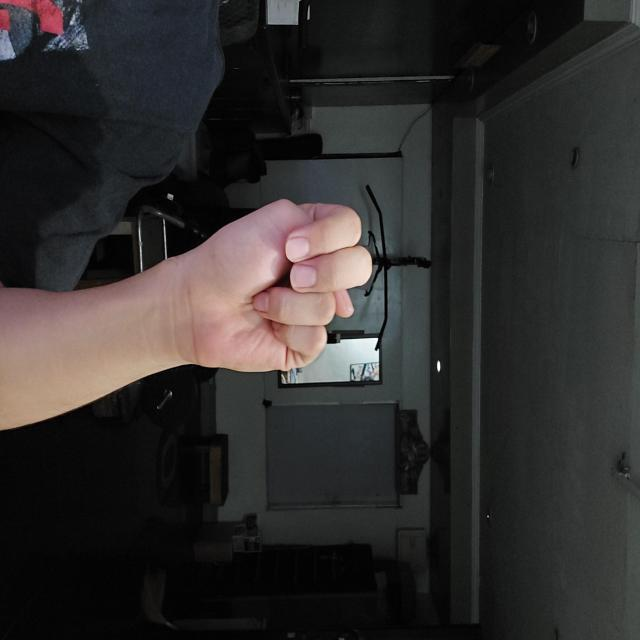N: (197, 266, 374, 452)
